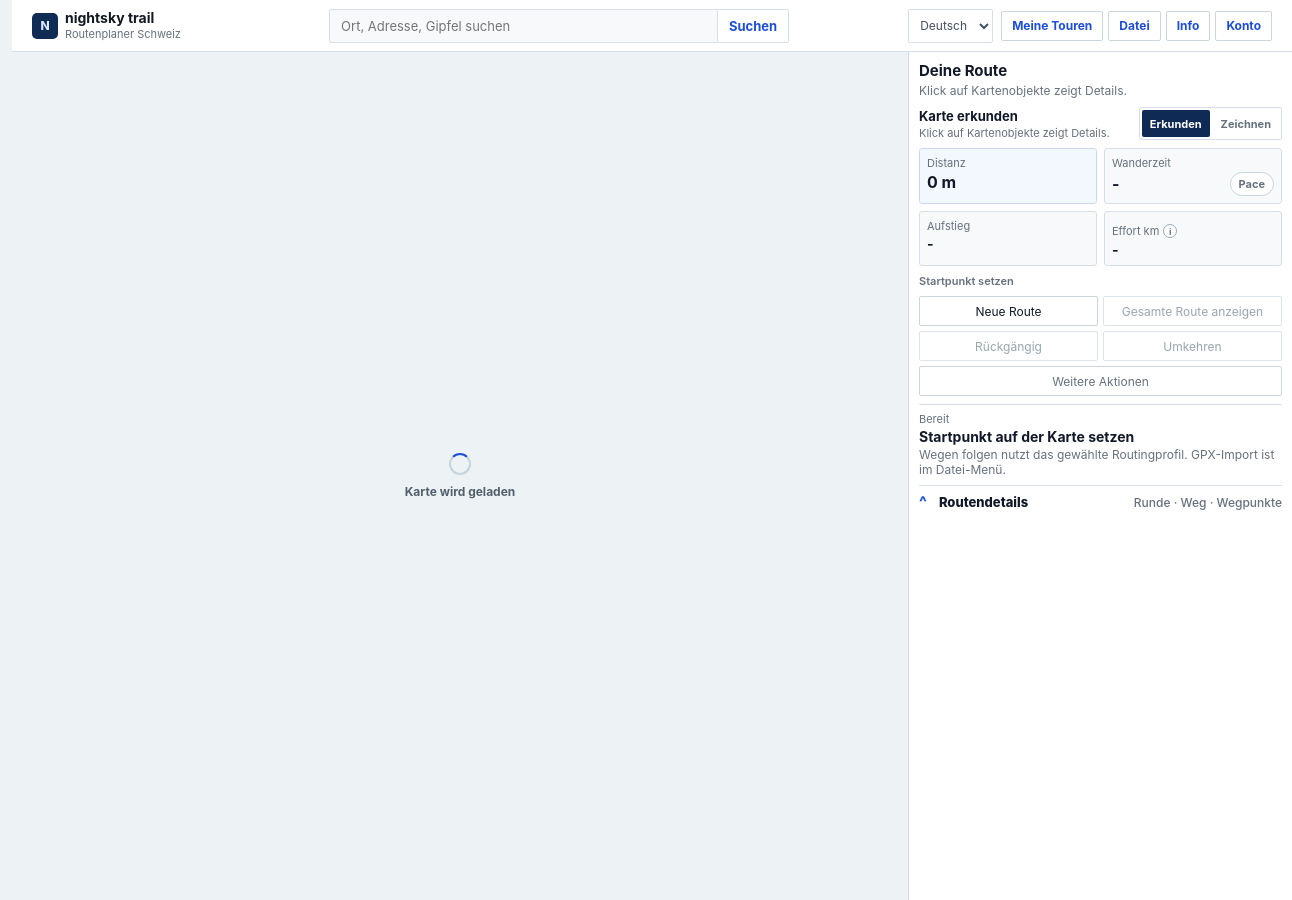
Scenario: App › shows the planning limitations in the app information
Click the button "Info" at (1188, 26), box [1166,10,1210,40]
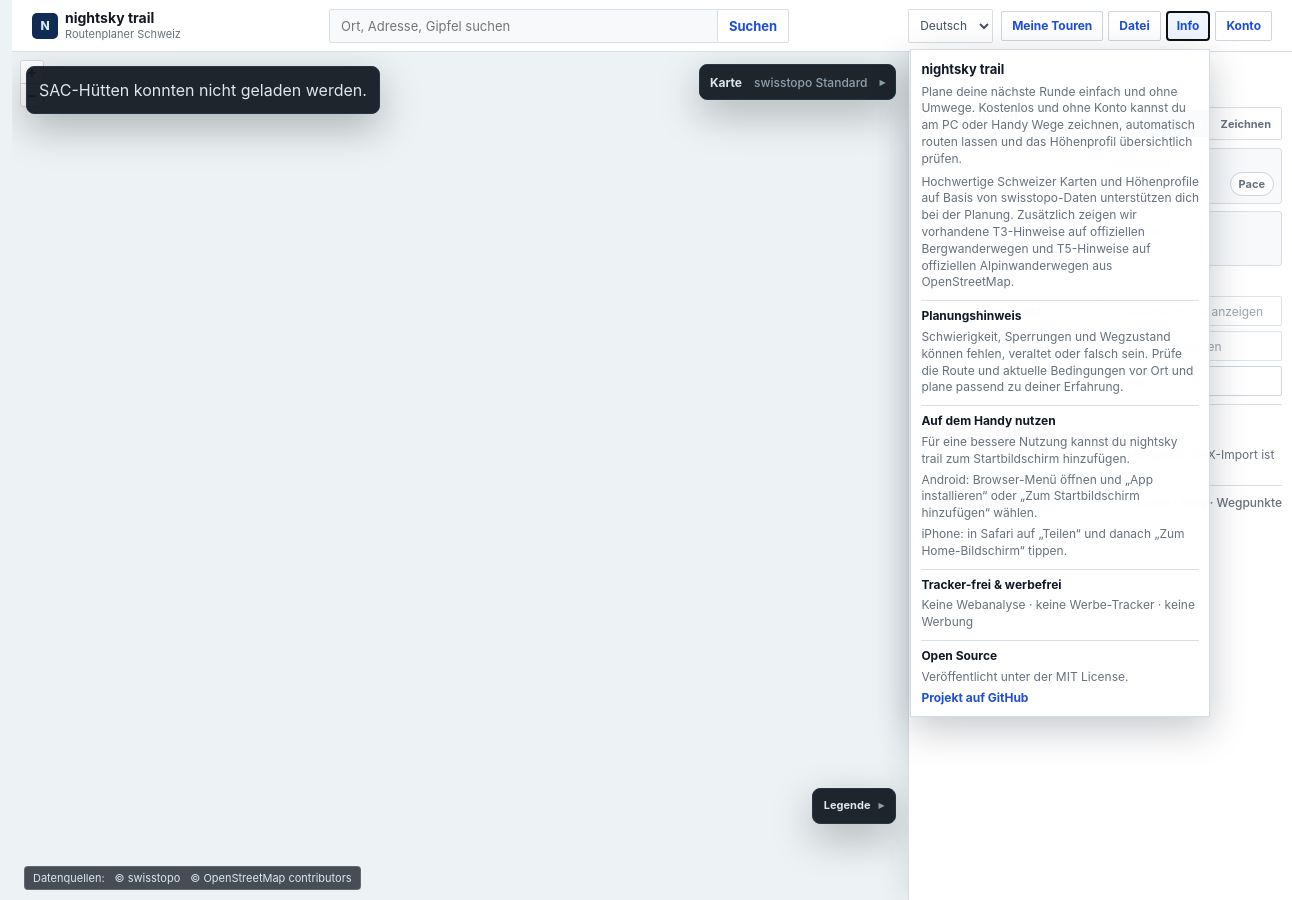
Result: the text "Planungshinweis" is shown at [921,308,1022,323]
Result: the text "Sperrungen und Wegzustand können fehlen" is shown at [921,329,1193,394]
Result: the text "Tracker-frei & werbefrei" is shown at [921,577,1062,592]
